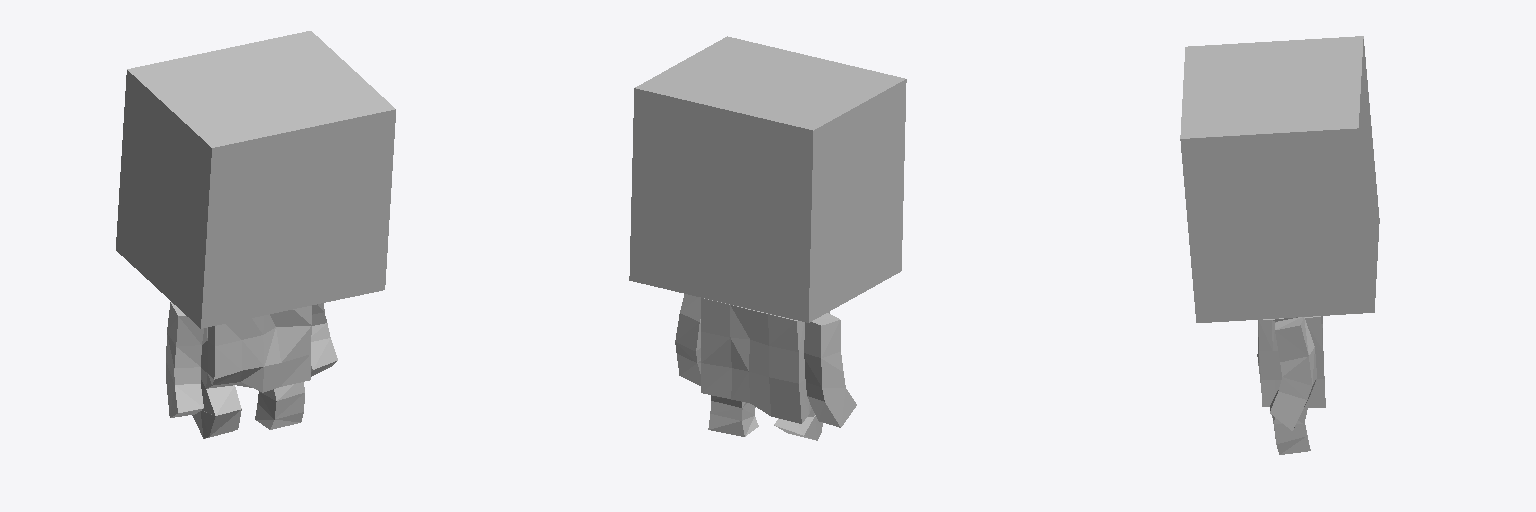
Rendered from boxman-animation-hodba_000011.obj.
3 views of the same model, side by side, from view 1: azimuth 30°, elevation 25°; view 2: azimuth 150°, elevation 25°; view 3: azimuth 270°, elevation 25° (orthographic).
Parts seen in each view (by area): view 1: Cube; view 2: Cube; view 3: Cube.
Part boxes in pixels (bbox=[...]): Cube: bbox=[116, 31, 395, 438]; Cube: bbox=[629, 36, 906, 440]; Cube: bbox=[1180, 36, 1379, 454].
Bounding box in the file's own units: 2.12 × 3.8 × 1.94.